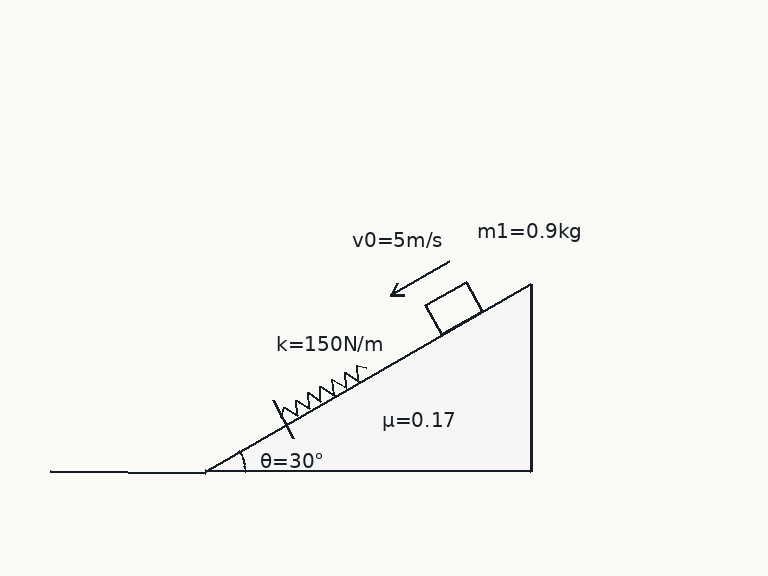block: (423, 280, 484, 336)
ramp: (203, 282, 532, 473)
spring: (280, 363, 368, 418)
